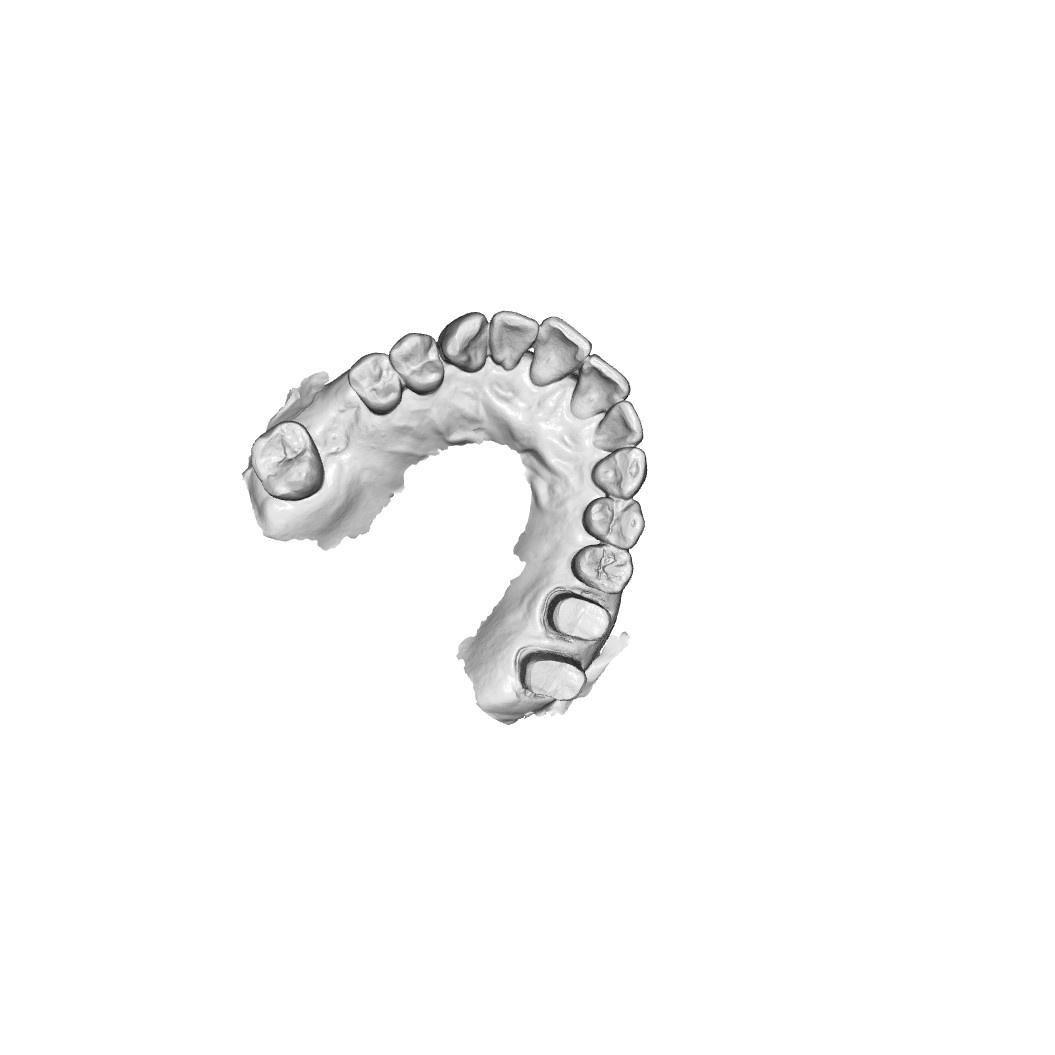canine: (437, 307, 492, 374), (589, 448, 652, 498)
crown: (514, 649, 589, 705), (545, 589, 611, 651)
incisor: (528, 315, 591, 386), (568, 353, 631, 416), (590, 399, 645, 450), (489, 311, 535, 370)
molar: (249, 422, 323, 501)
premolar: (569, 540, 637, 595), (580, 493, 646, 549), (346, 350, 398, 414), (392, 334, 442, 393)
